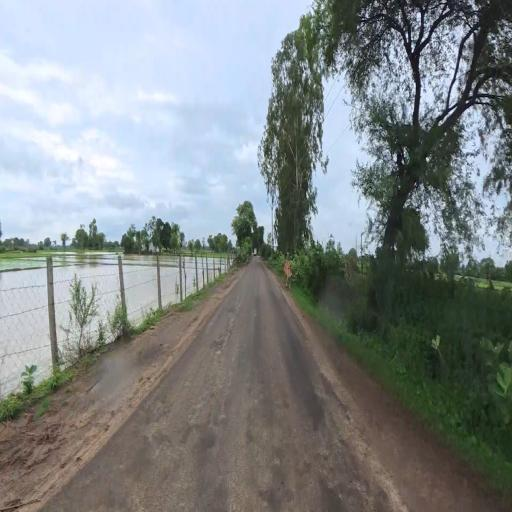ravelling: (148, 396, 364, 512)
